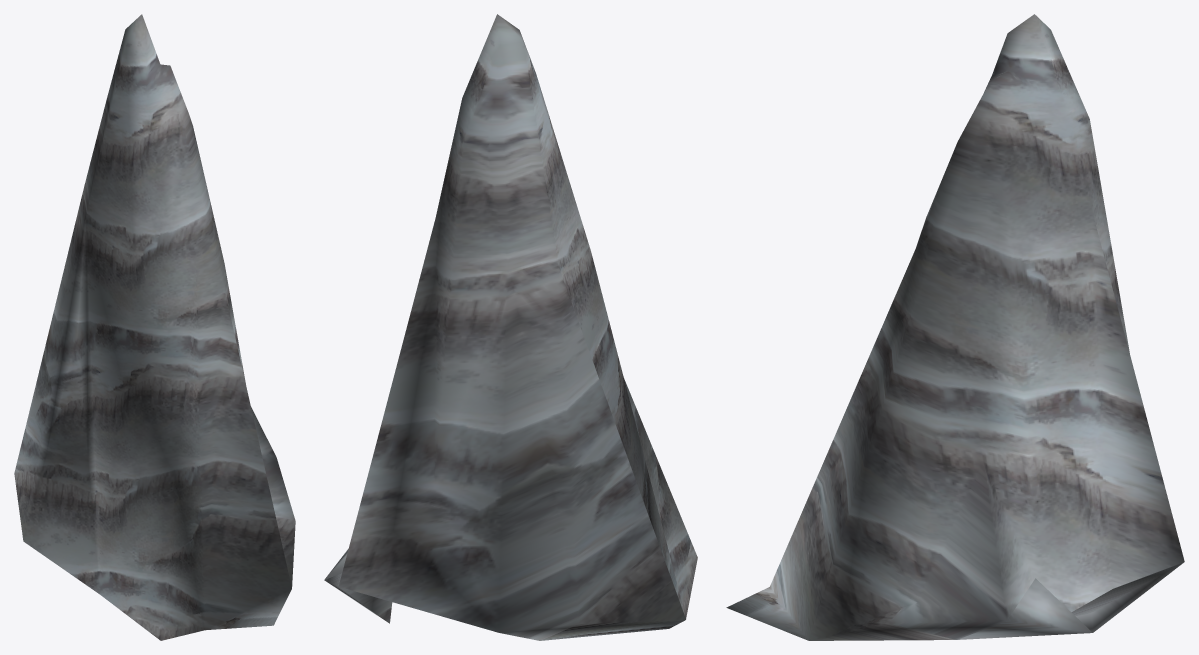
File: SnowyMountain_3.gltf
3 views of the same model, side by side, from view 1: azimuth 30°, elevation 25°; view 2: azimuth 150°, elevation 25°; view 3: azimuth 270°, elevation 25° (orthographic). The views are drawn at different scales.
Parts seen in each view (by area): view 1: SnowyMountain_3; view 2: SnowyMountain_3; view 3: SnowyMountain_3.
Boxes of the visible parts, x1=… form: SnowyMountain_3: x1=14, y1=14, x2=295, y2=640; SnowyMountain_3: x1=324, y1=14, x2=697, y2=640; SnowyMountain_3: x1=726, y1=14, x2=1184, y2=640.
Bounding box in the file's own units: 94.32 × 189 × 124.
Materials: 1 (1 with a texture image).
